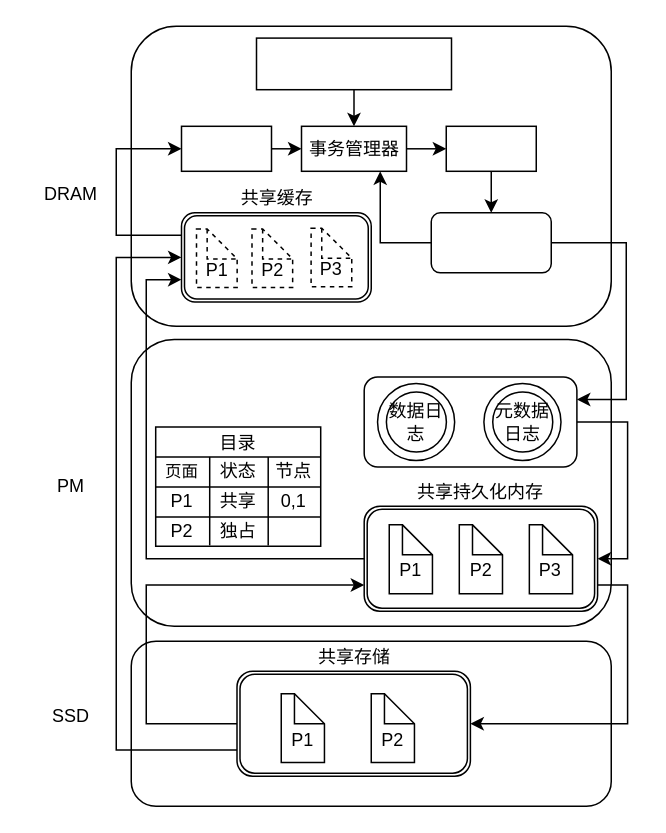
Some shapes in this 666 by 833 pixel diagram are drawn without their labels. The shapes that lost their labels are listed below. From the top down, each one's centre as x and y in pixels, then its label:
(x=353, y=63): 分布式向量时间戳
(x=226, y=148): 读取线程
(x=490, y=148): 日志线程
(x=490, y=242): 日志缓存区
